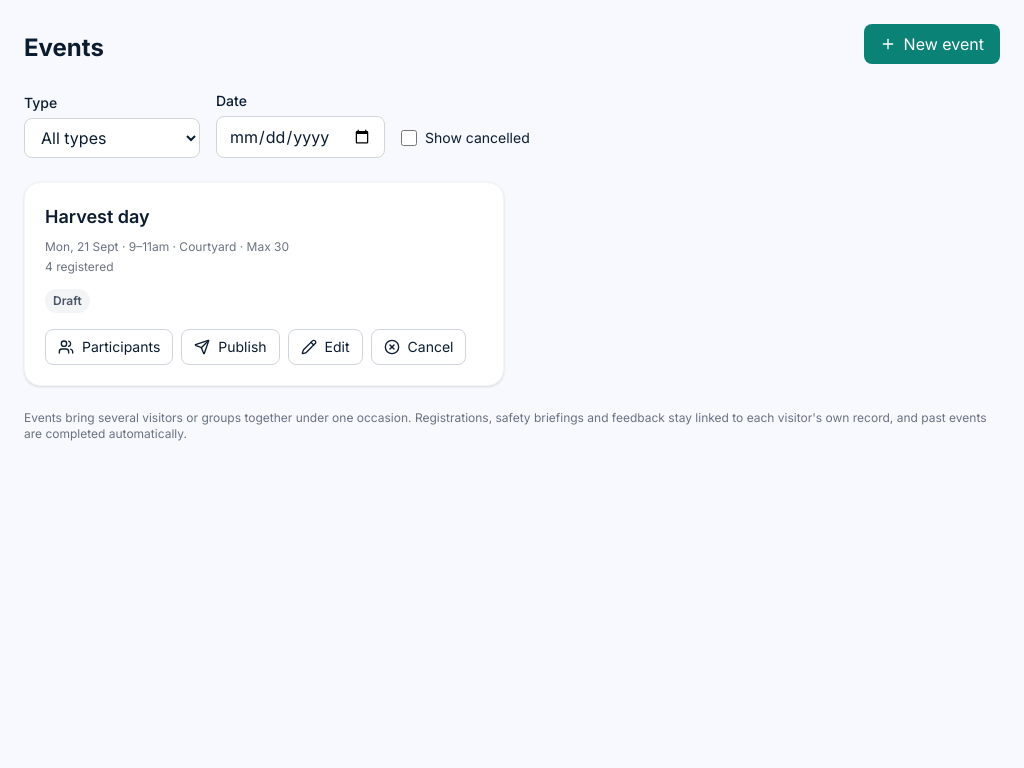
EventsPage › opens the participants panel of a card
Click the button "Participants". click: click(109, 347)
box: [45,329,173,365]
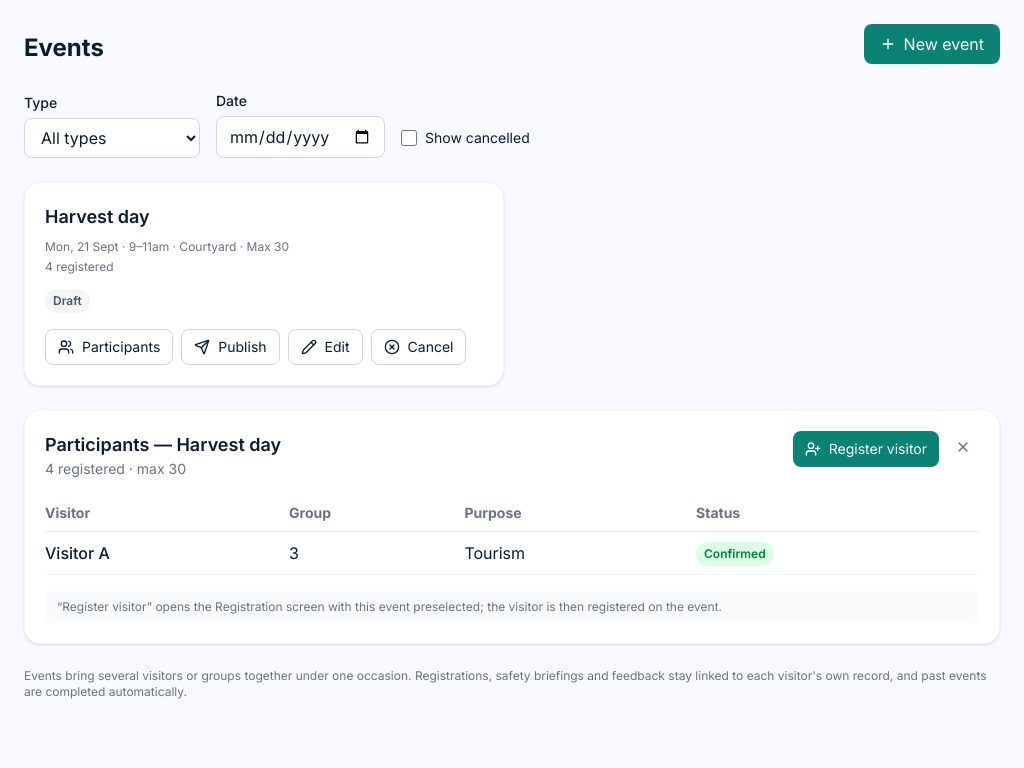
Check: the heading "Participants — Harvest day" is shown, box [45,431,281,459]
Check: the text "Visitor A" is shown, box [45,532,289,574]
Check: the text "Tourism" is shown, box [464,532,696,574]
Click the button named "Close participants". click: click(963, 447)
box: [947,431,979,463]
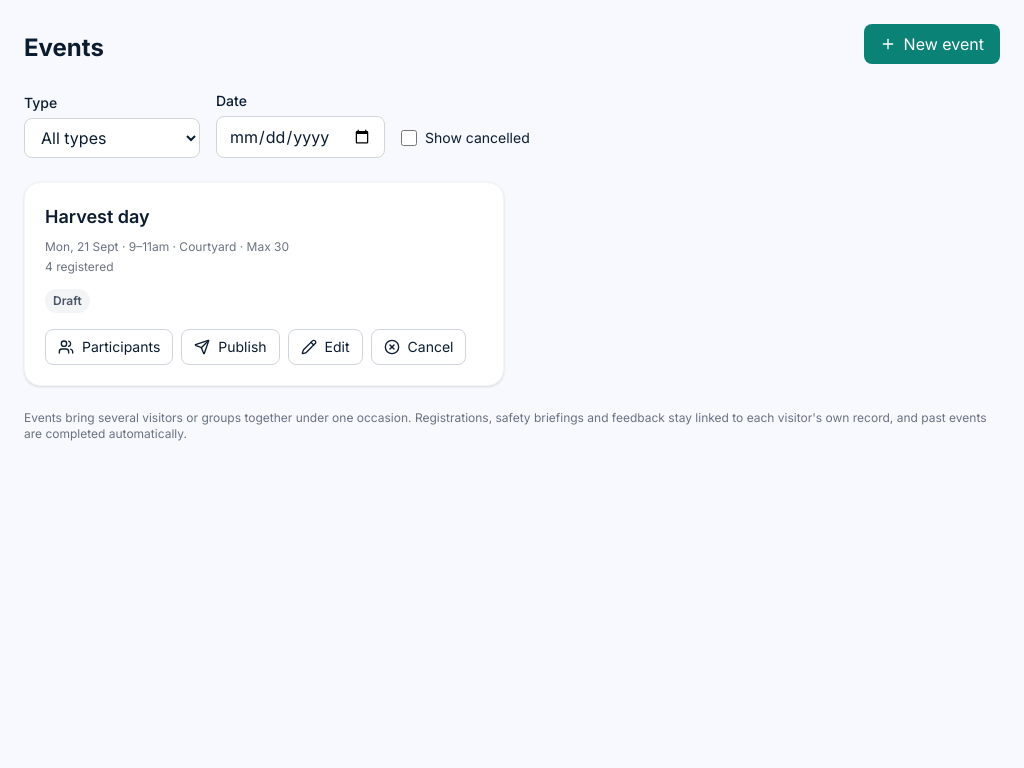
Check: the text "Visitor A" is gone
